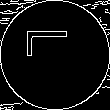L_E: (30, 40, 80, 70)
